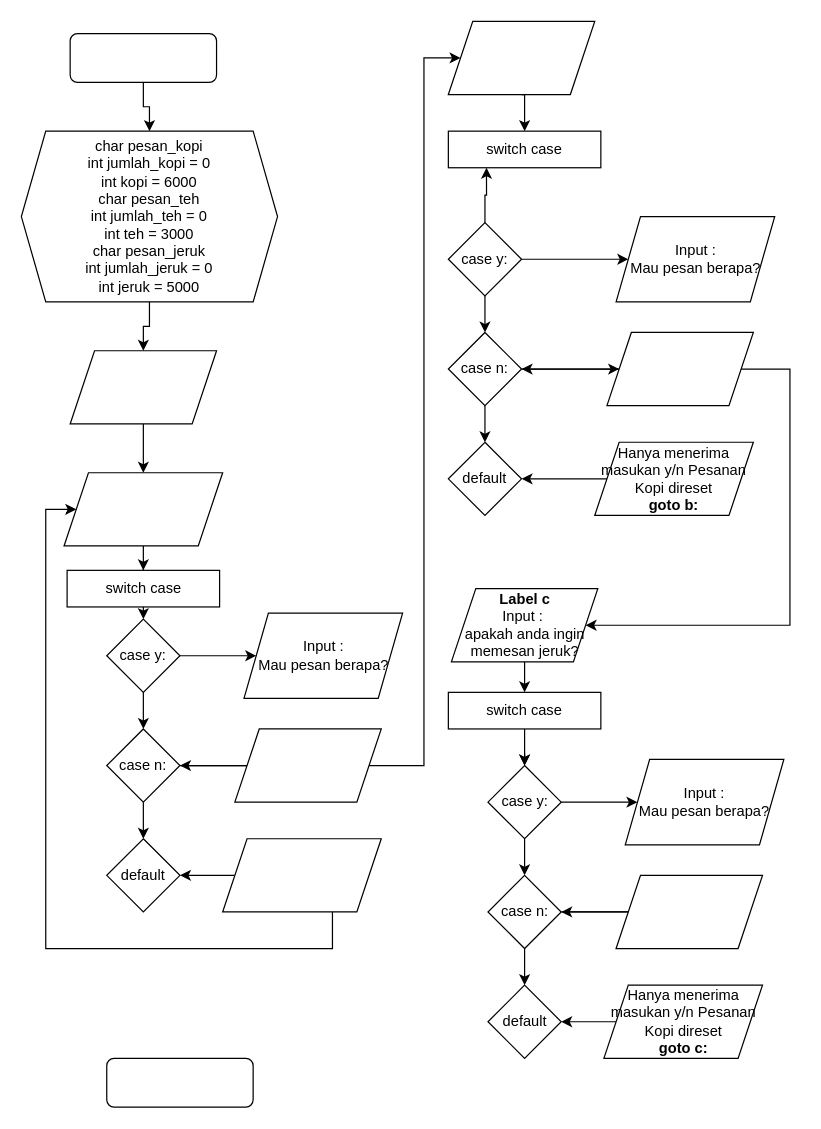
The diagram is 821 pixels wide and 1129 high, and some of its shapes have lost their labels. The shapes that lost their labels are listed below. From the top down, each one's centre as x and y in pixels, then its label:
At pixel 143 57: "start".
At pixel 521 57: "Label b Input : apakah anda ingin memesan teh?".
At pixel 143 387: "Print : Tampilkan Daftar Menu".
At pixel 679 368: "goto c;".
At pixel 143 509: "Label a Input : apakah anda ingin memesan kopi?".
At pixel 307 765: "goto b;".
At pixel 301 875: "Hanya menerima masukan y/n Pesanan Kopi direset goto a:".
At pixel 688 911: "goto g;".
At pixel 179 1082: "endl".
